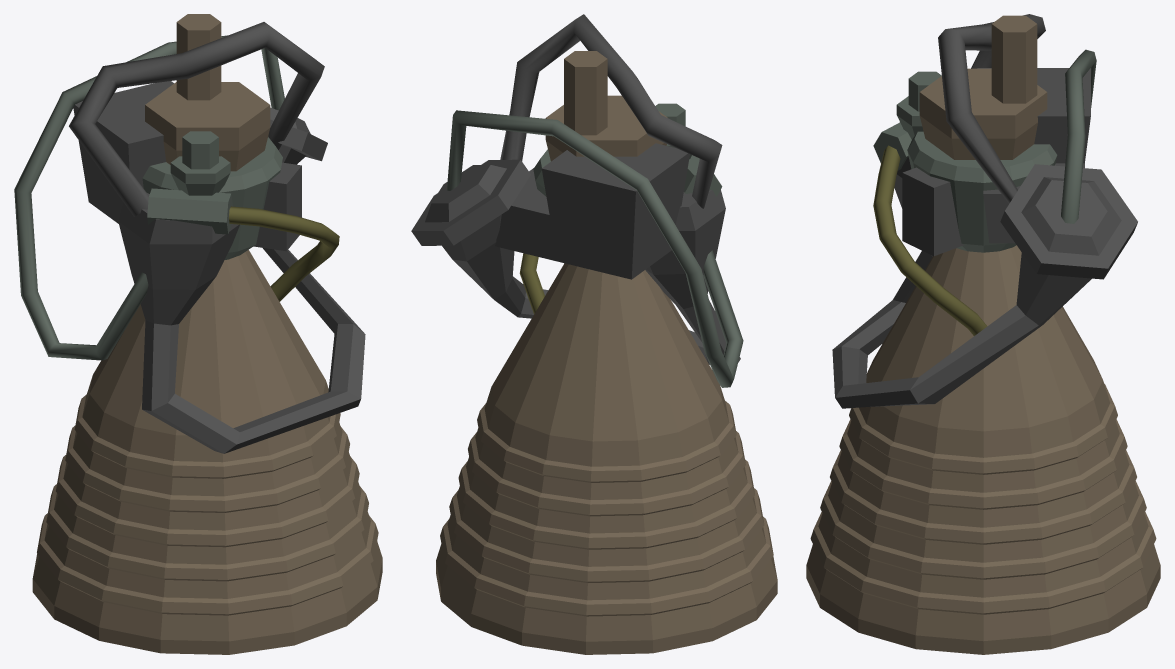
3 views of the same model, side by side, from view 1: azimuth 30°, elevation 25°; view 2: azimuth 150°, elevation 25°; view 3: azimuth 270°, elevation 25° (orthographic). The views are drawn at different scales.
Parts seen in each view (by area): view 1: Circle, NurbsPath.001, NurbsPath.002, NurbsPath; view 2: Circle, NurbsPath.002, NurbsPath.001, NurbsPath; view 3: Circle, NurbsPath.001, NurbsPath, NurbsPath.002.
Part boxes in pixels (<box>): Circle: <box>32,14,382,654</box>; NurbsPath.001: <box>69,22,324,216</box>; NurbsPath.002: <box>14,35,284,360</box>; NurbsPath: <box>228,206,339,301</box>; Circle: <box>411,51,777,654</box>; NurbsPath.002: <box>447,110,743,387</box>; NurbsPath.001: <box>500,14,722,208</box>; NurbsPath: <box>519,253,544,314</box>; Circle: <box>806,15,1160,654</box>; NurbsPath.001: <box>938,14,1045,203</box>; NurbsPath: <box>873,145,987,335</box>; NurbsPath.002: <box>1061,49,1096,223</box>.
Bounding box in the file's own units: 1.59 × 2.77 × 1.56.
